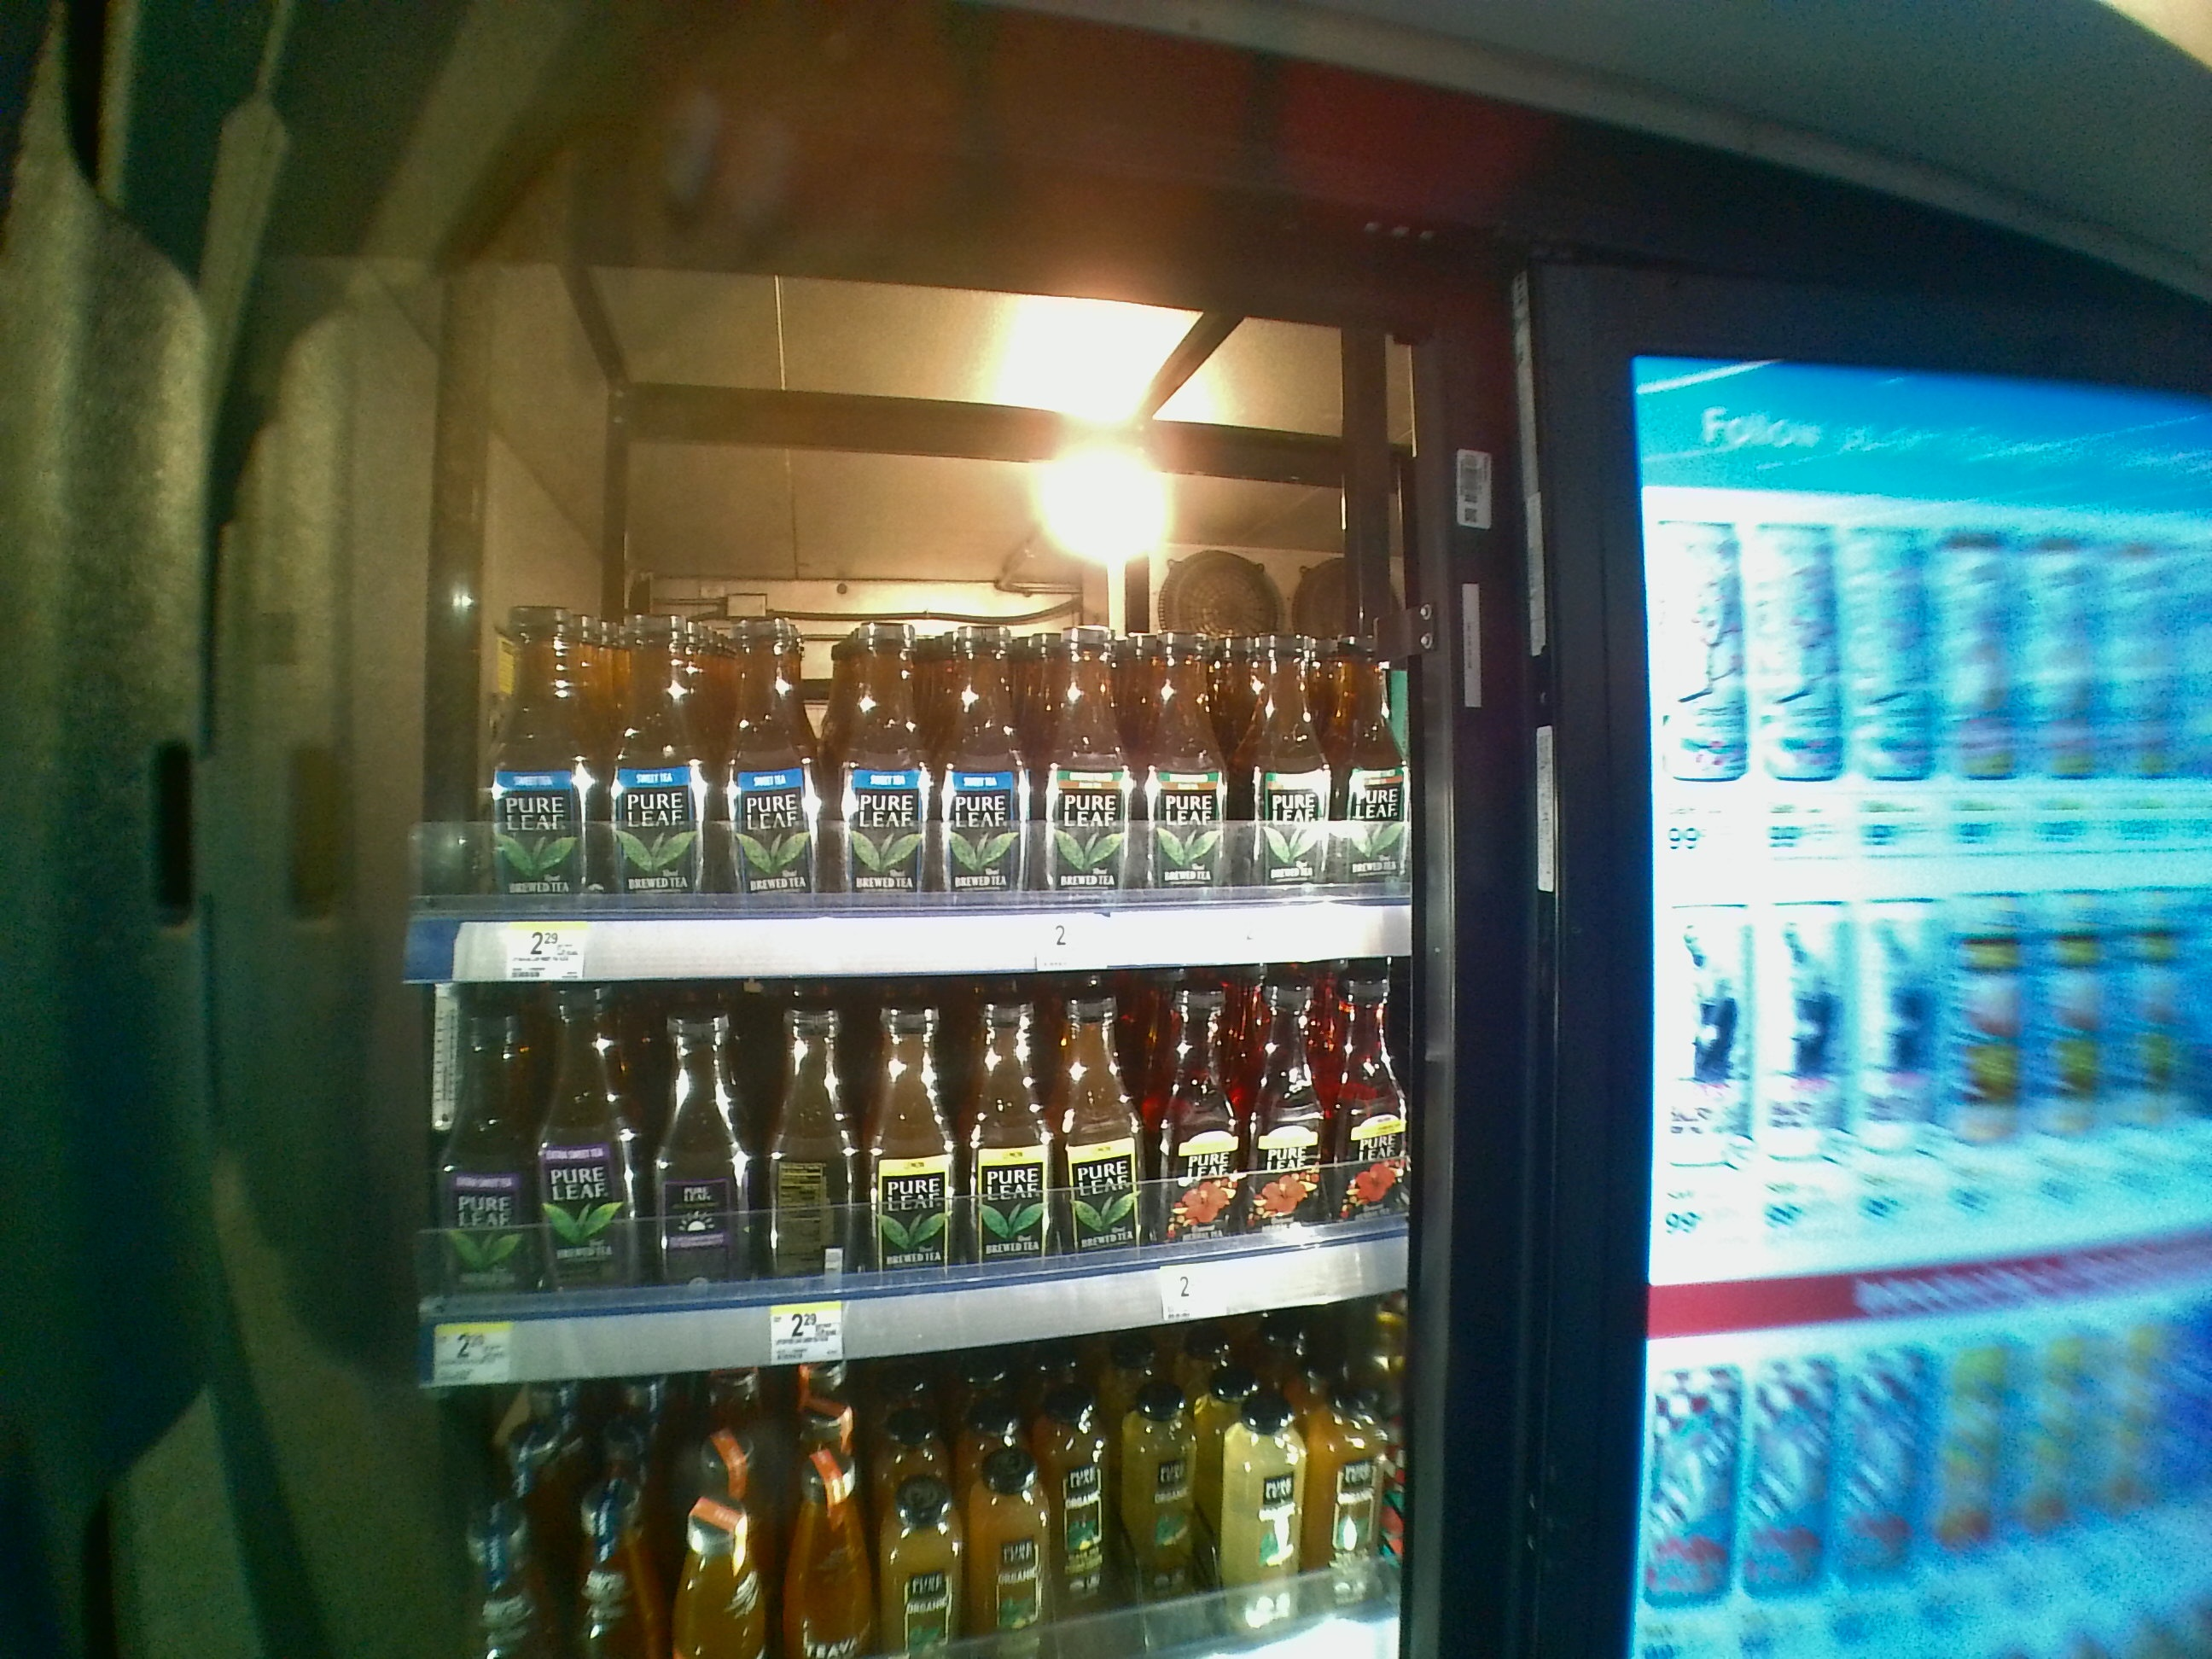shelf: (399, 498, 1416, 985), (411, 997, 1416, 1413)
